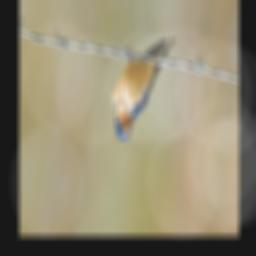Swallow: (105, 19, 177, 153)
